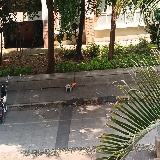fire: (70, 81, 76, 87)
